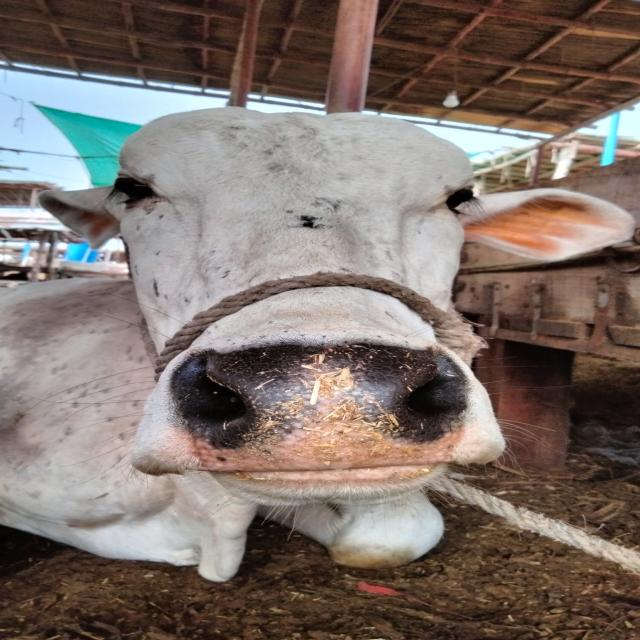muzzles: (171, 334, 477, 478)
